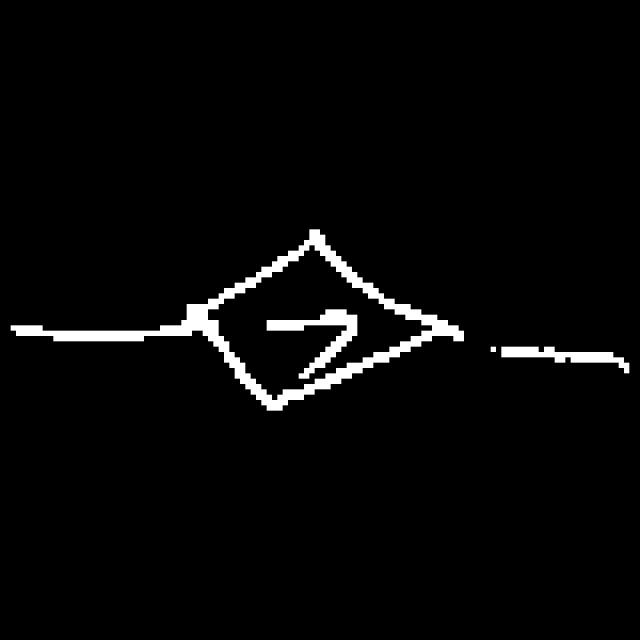dependant_current: (188, 218, 448, 421)
